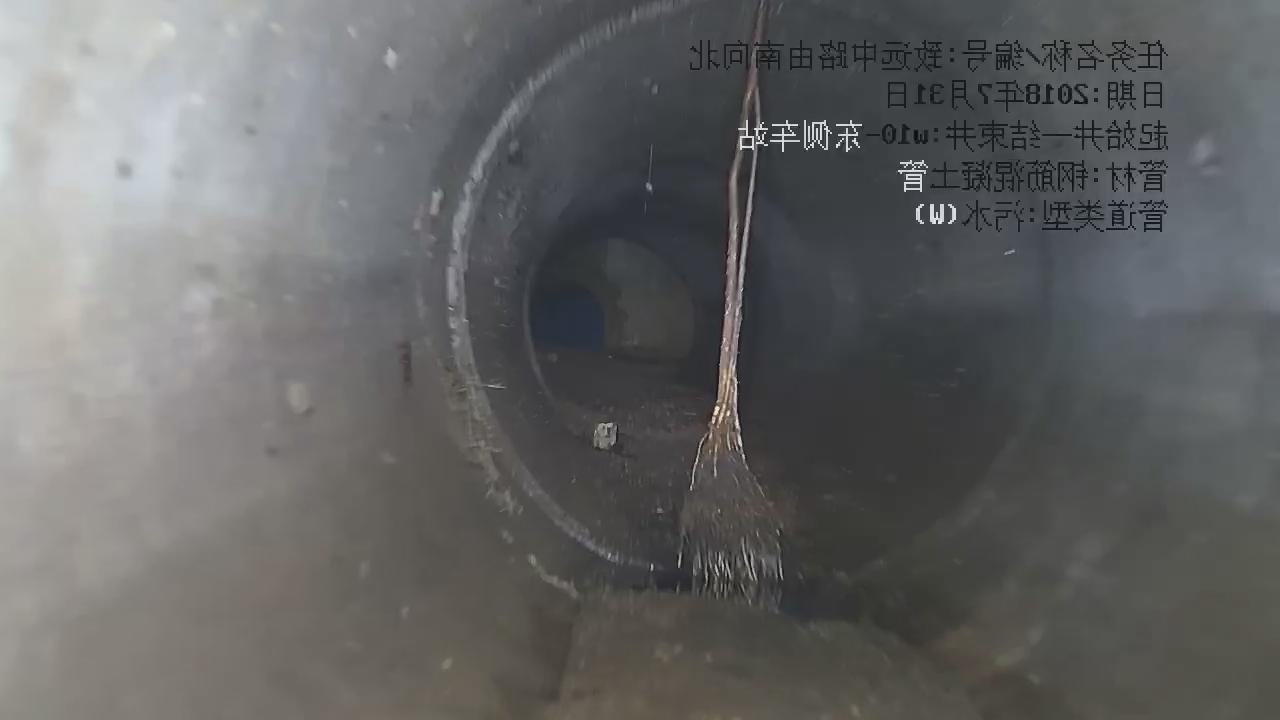CKTJ: (446, 0, 688, 569)
SG: (681, 0, 784, 604)
